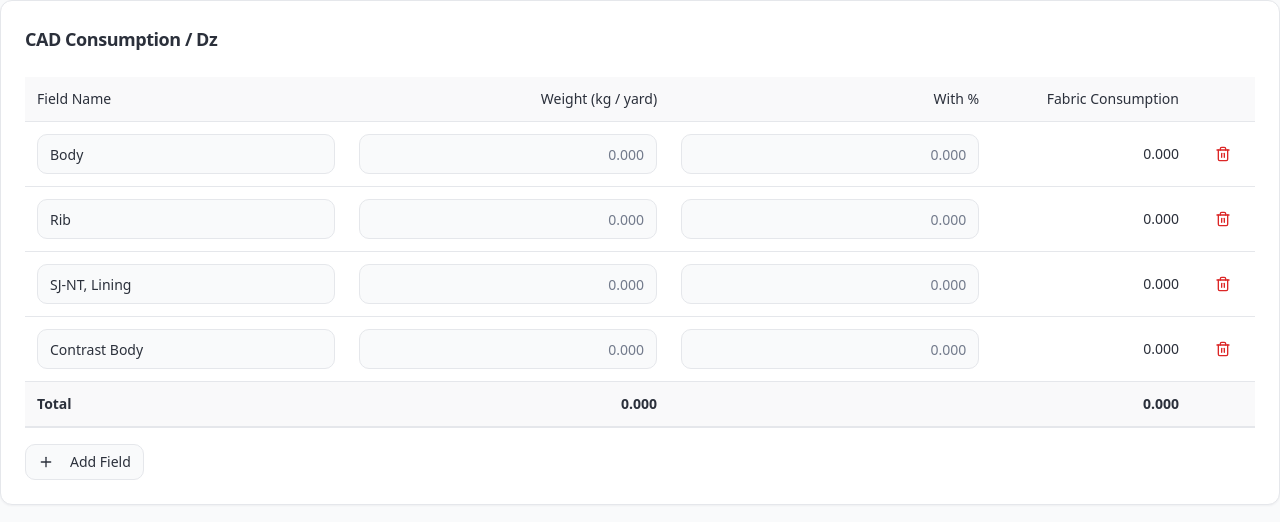
CadConsumptionSectionCreate Component › updates row calculation and totals when weight and percent change
This screenshot has width=1280, height=522.
Type "10" into the 1st field with placeholder "0.000" at (508, 154), box 359,134 -> 657,174
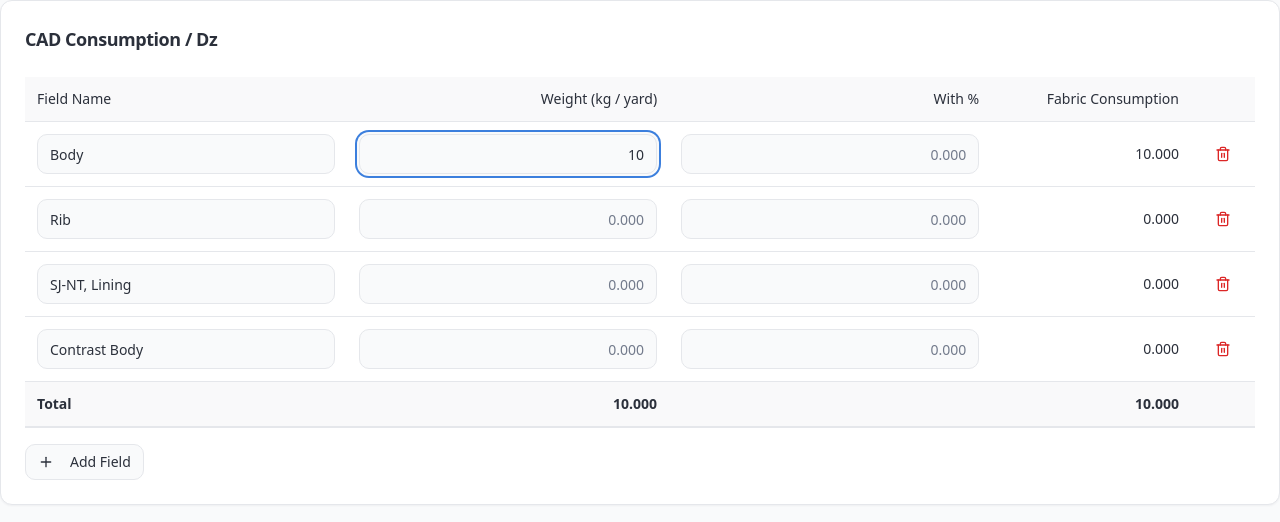
Type "10" into the 1st field with placeholder "0.000" at (830, 154), box 681,134 -> 979,174
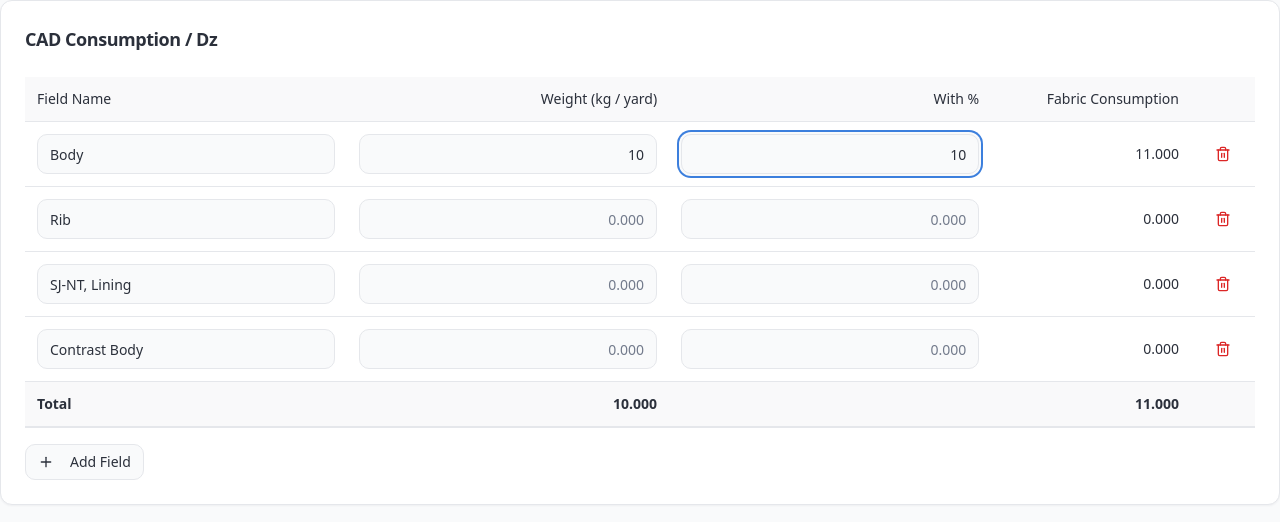
Expected: the cell with test id "cad-total-weight" reads "10.000", 613,394 -> 657,413
Expected: the 1st text "11.000" is shown, 991,122 -> 1191,186
Expected: the cell with test id "cad-total-value" reads "11.000", 1135,394 -> 1179,413
